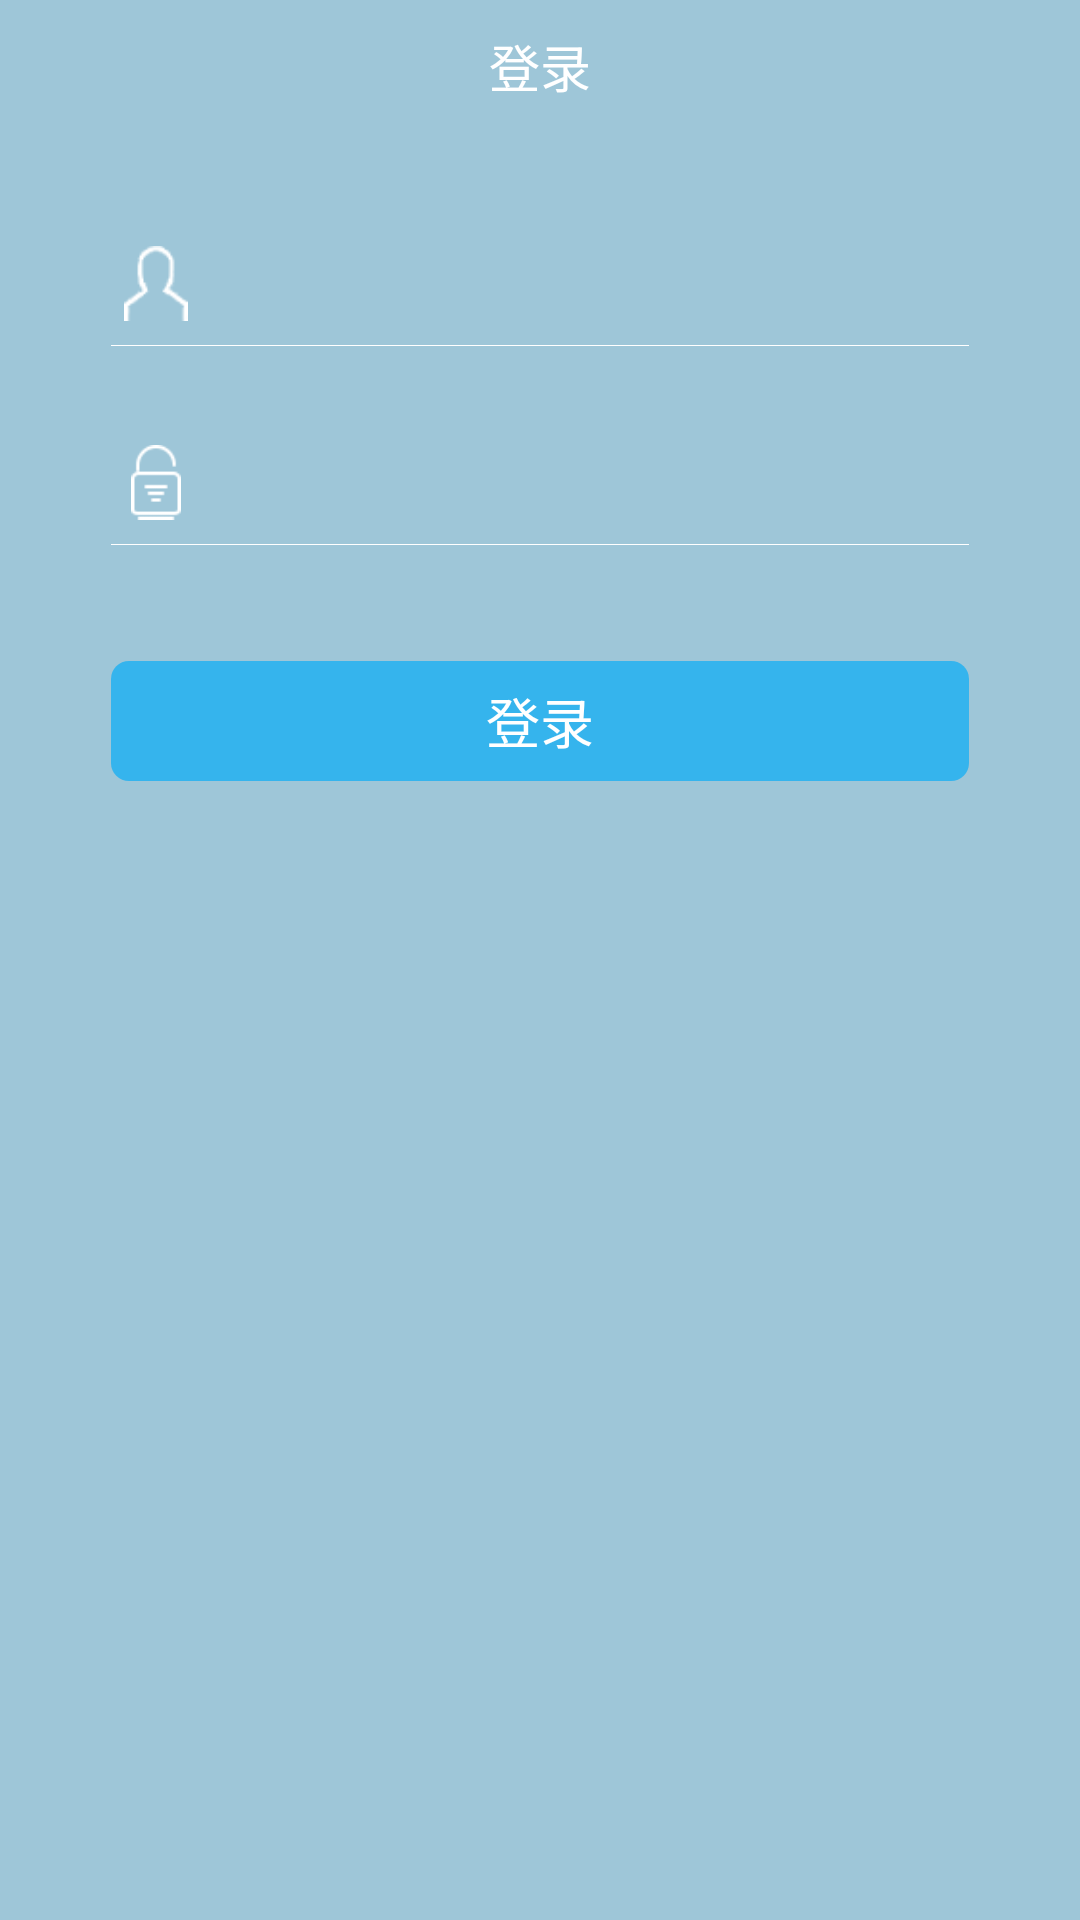

Named icons in this screenshot (1080*1920) and their bounding boxes, (x1, y1, x2, y2):
account: (124, 246, 188, 321)
password: (131, 445, 181, 520)
